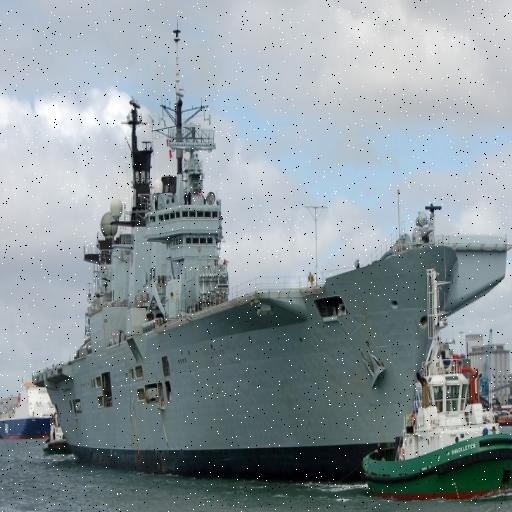Portanaves: (28, 16, 512, 487)
